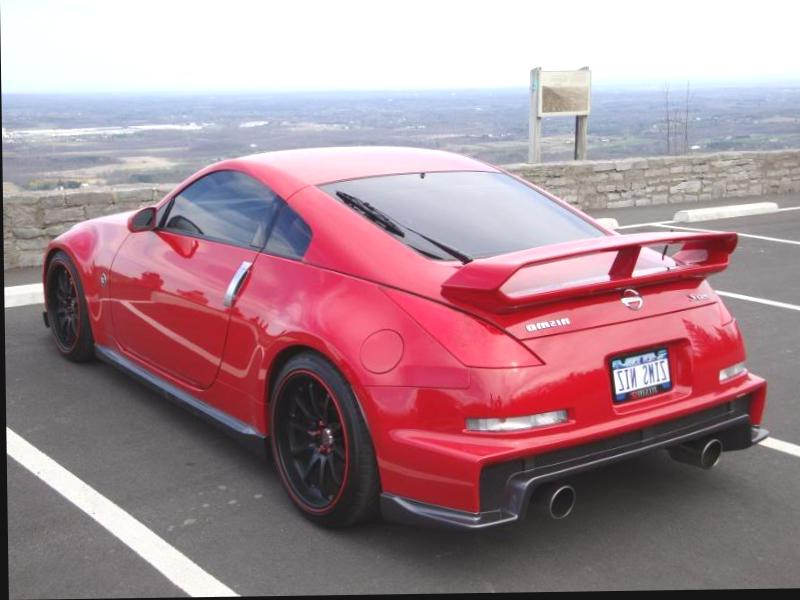License_Plate: (608, 342, 675, 408)
